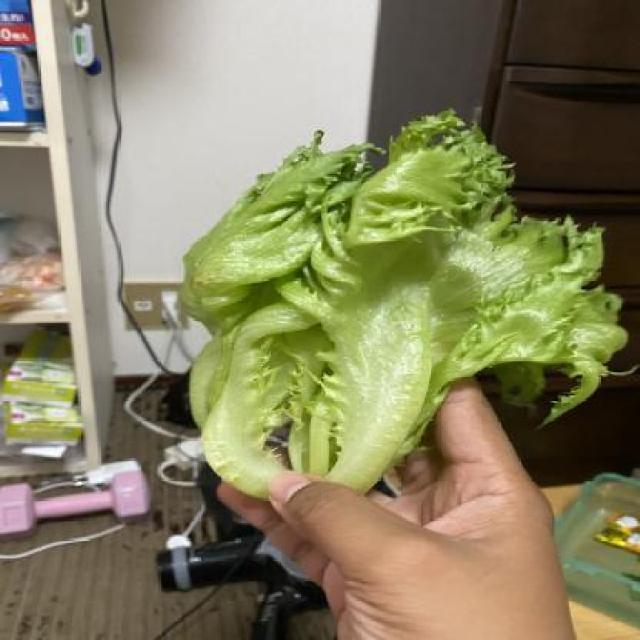Lettuce: (178, 102, 629, 508)
